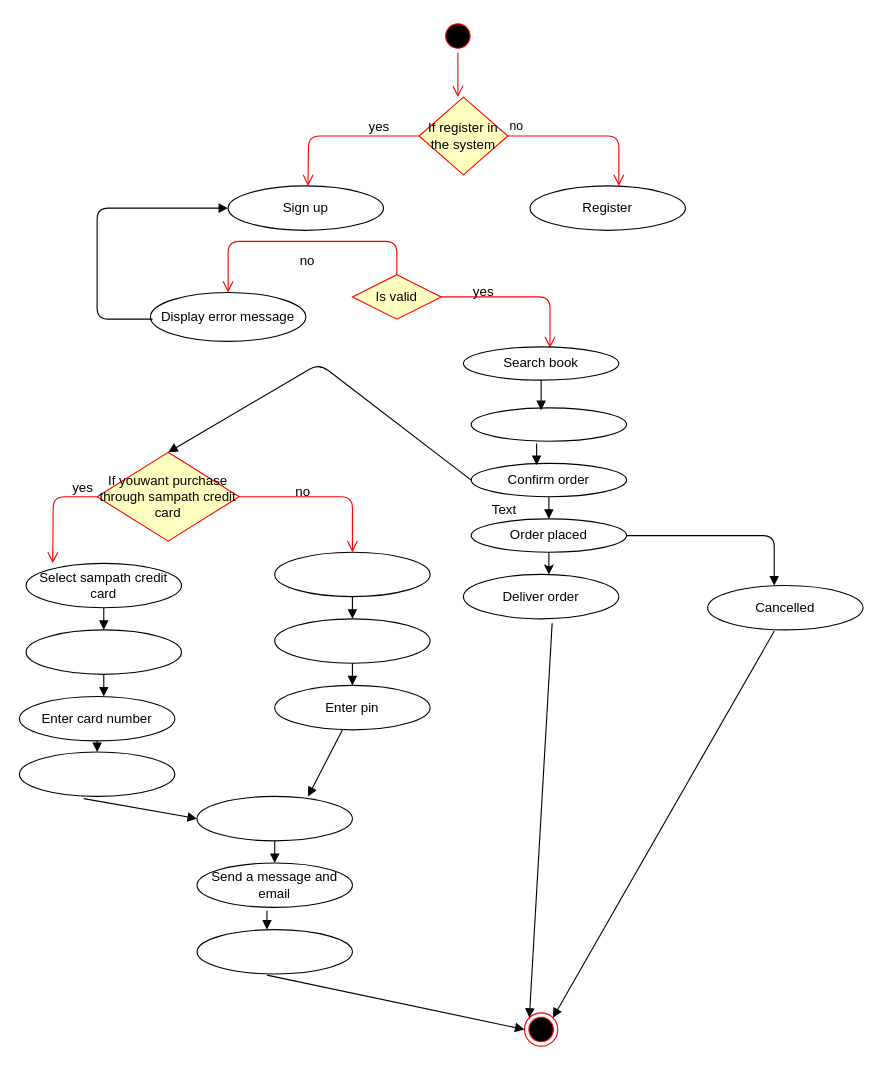
The diagram is 882 pixels wide and 1066 high, and some of its shapes have lost their labels. Each missing label, with the centre of its shape:
Add to cart: point (548, 424)
Enter cvc: point (96, 773)
Enter name: point (103, 651)
Enter phone number: point (352, 640)
logout: point (274, 951)
Select dialog bill payment: point (352, 574)
valid payment gateway: point (274, 818)
